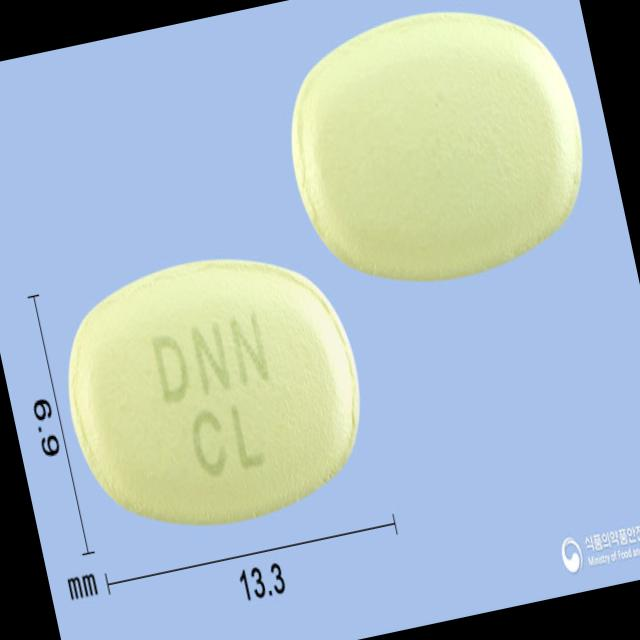Clcid: (42, 225, 386, 556)
